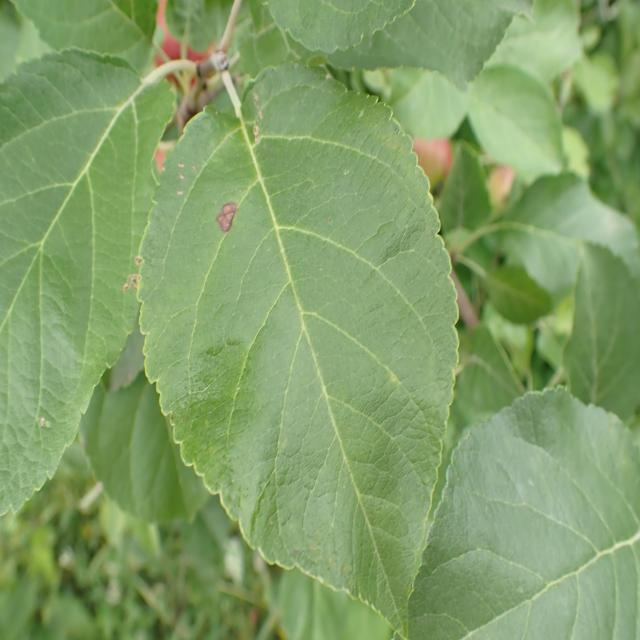Black Rot: (207, 184, 244, 252)
